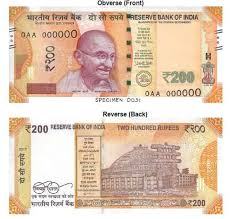twoHundred: (23, 22, 207, 90)
